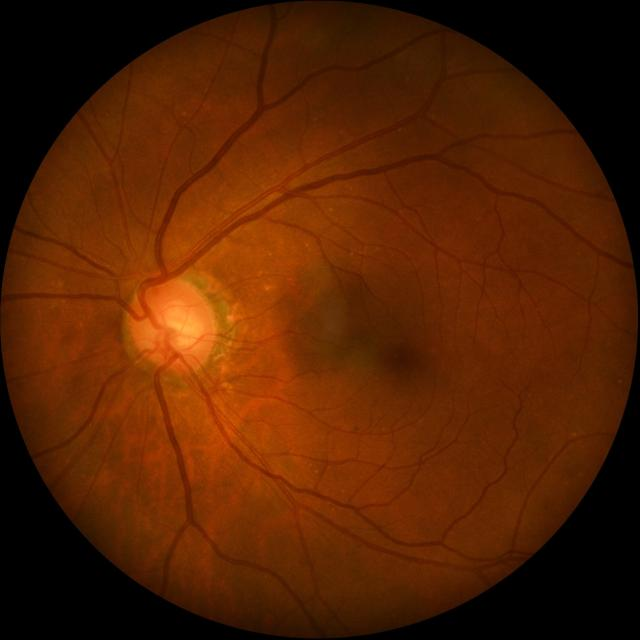OC: (157, 301, 200, 352)
OD: (127, 274, 215, 373)
